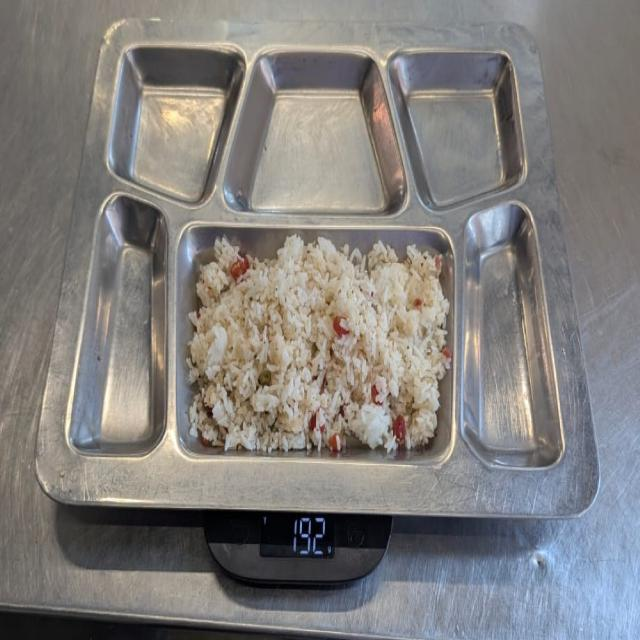Fried Rice: (184, 228, 453, 460)
